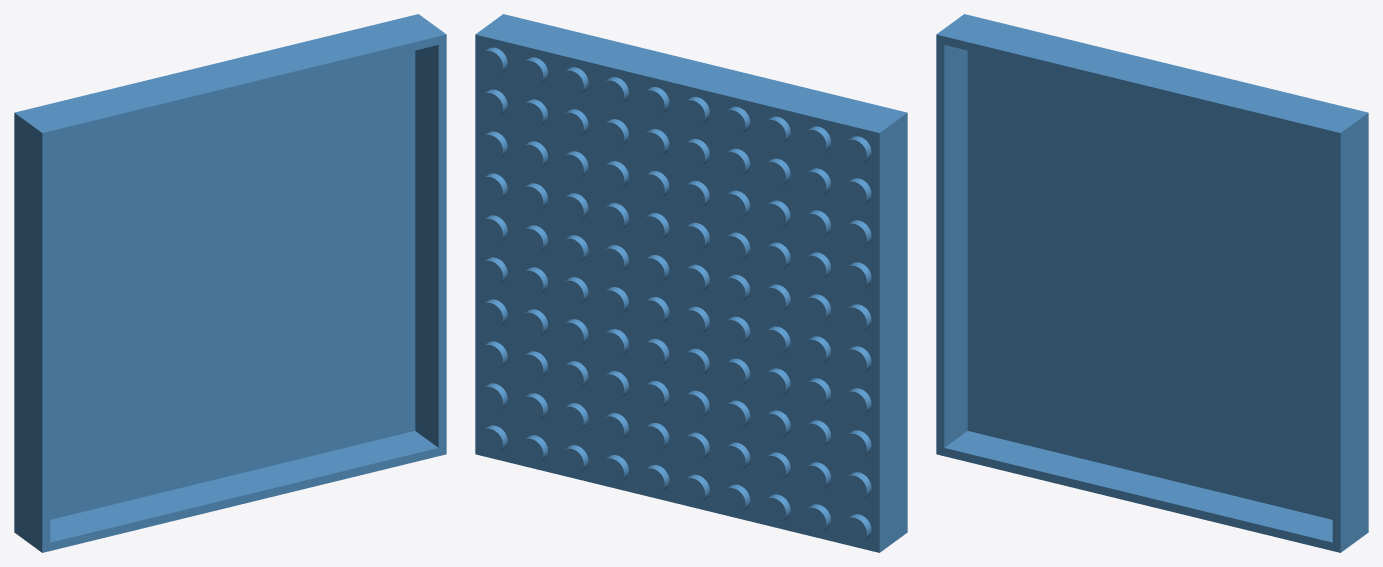
The model's file is lago muy grande.dae.
3 renders of one model, left to right at view 1: azimuth 30°, elevation 25°; view 2: azimuth 150°, elevation 25°; view 3: azimuth 330°, elevation 25°, orthographic.
Parts seen in each view (by area): view 1: Inner-Node-UntitledModel_dot_io-0; view 2: Inner-Node-UntitledModel_dot_io-0; view 3: Inner-Node-UntitledModel_dot_io-0.
Part boxes in pixels (x1=…): Inner-Node-UntitledModel_dot_io-0: x1=14, y1=14, x2=446, y2=552; Inner-Node-UntitledModel_dot_io-0: x1=475, y1=14, x2=907, y2=552; Inner-Node-UntitledModel_dot_io-0: x1=936, y1=14, x2=1368, y2=552.
Bounding box in the file's own units: 200 × 198 × 27.96.
